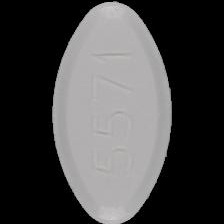54868-1616: (0, 0, 224, 224)
